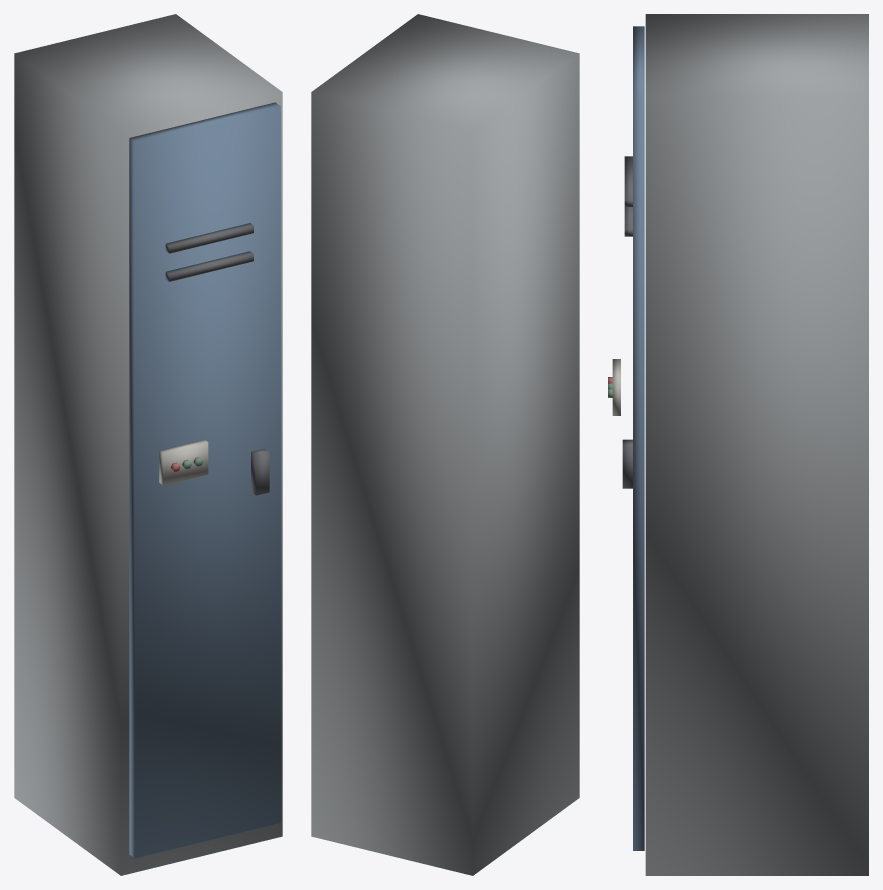
The model's file is single_locker.glb.
The picture shows the model from 3 angles, left to right: view 1: azimuth 30°, elevation 25°; view 2: azimuth 150°, elevation 25°; view 3: azimuth 270°, elevation 25°; orthographic projection. The views are drawn at different scales.
Parts seen in each view (by area): view 1: world; view 2: world; view 3: world.
Part boxes in pixels (<box>): world: <box>14,14,282,875</box>; world: <box>311,14,579,875</box>; world: <box>608,14,868,875</box>.
Size of the model in its own units: 0.42 by 1.85 by 0.561.
